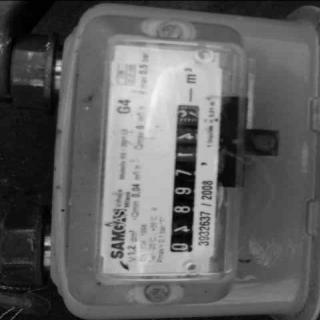1: (172, 241, 191, 251)
2: (175, 150, 195, 158)
5: (172, 223, 192, 233), (177, 131, 196, 141)
8: (175, 167, 194, 178)
9: (173, 204, 192, 215)
:: (174, 185, 193, 196)
